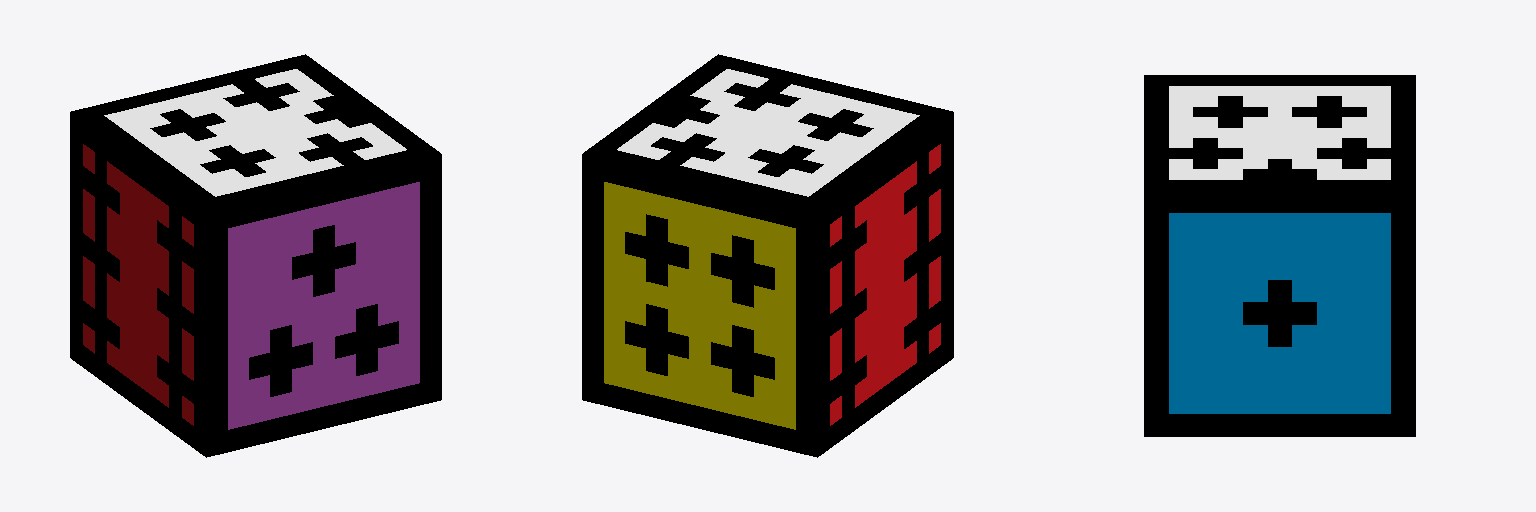
The picture shows the model from 3 angles: view 1: azimuth 30°, elevation 25°; view 2: azimuth 150°, elevation 25°; view 3: azimuth 270°, elevation 25°; orthographic projection.
Parts seen in each view (by area): view 1: Cube; view 2: Cube; view 3: Cube.
Boxes of the visible parts, <box> form: Cube: <box>70,54,441,457</box>; Cube: <box>582,54,953,457</box>; Cube: <box>1144,75,1415,436</box>.
Bounding box in the file's own units: 2 × 2 × 2.
Materials: 1 (1 with a texture image).